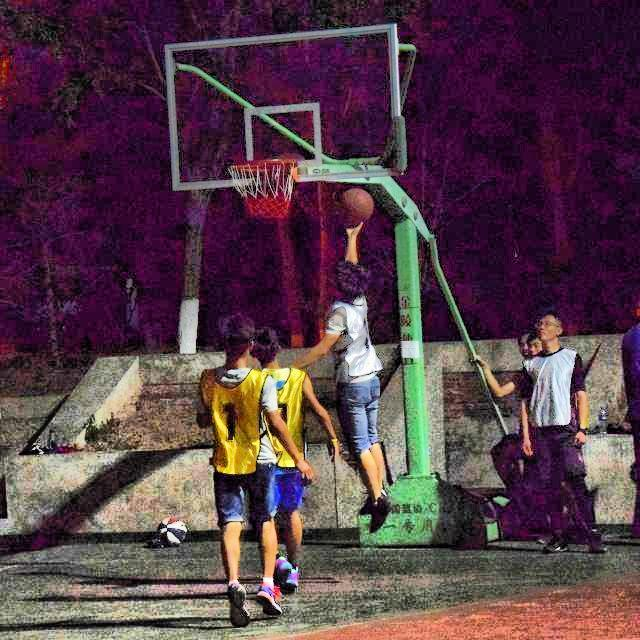rim: (225, 158, 298, 222)
